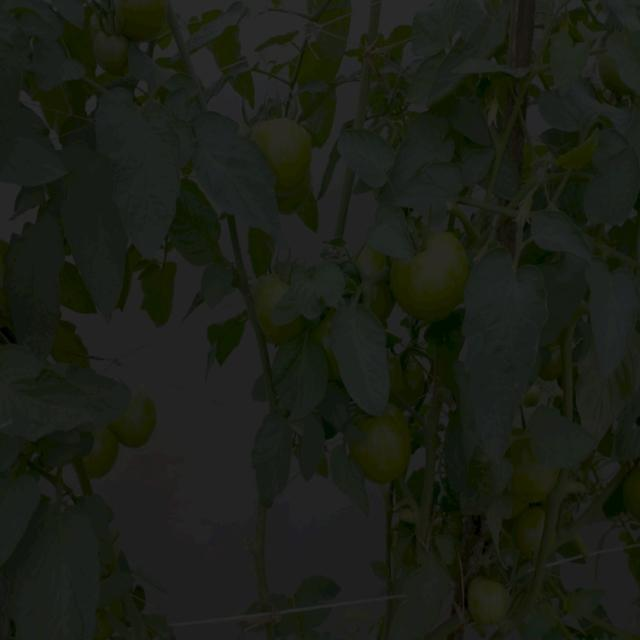tomato: (398, 241, 474, 327), (261, 117, 313, 211), (358, 417, 418, 487), (111, 1, 171, 43), (509, 454, 556, 506), (256, 273, 293, 339), (112, 396, 162, 442), (472, 571, 514, 620), (88, 428, 120, 480), (520, 505, 549, 562), (95, 27, 128, 69), (543, 343, 565, 383), (625, 469, 640, 519), (526, 383, 540, 398)
